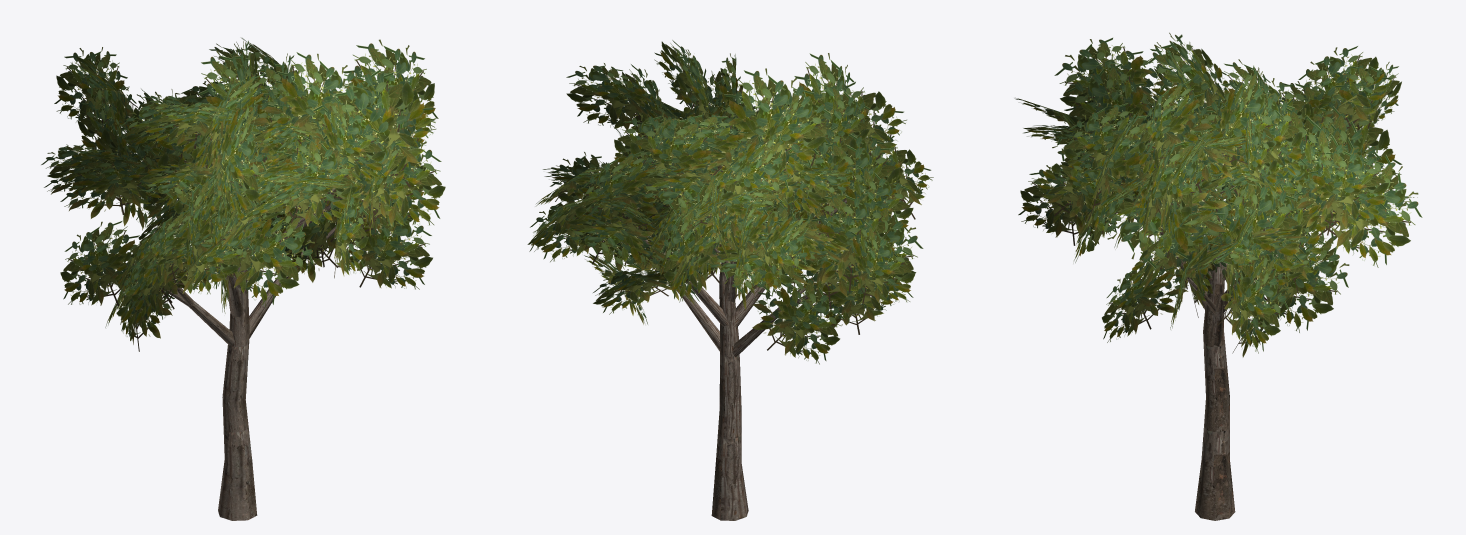
The model's file is arvore_copa.glb.
The picture shows the model from 3 angles, left to right: view 1: azimuth 30°, elevation 25°; view 2: azimuth 150°, elevation 25°; view 3: azimuth 270°, elevation 25°; orthographic projection. The views are drawn at different scales.
Parts seen in each view (by area): view 1: Folhas, Tronco; view 2: Folhas, Tronco; view 3: Folhas, Tronco.
Boxes of the visible parts, x1,y1,x2,y2 form: Folhas: (41, 37, 445, 351); Tronco: (156, 188, 336, 520); Folhas: (527, 40, 933, 364); Tronco: (637, 199, 846, 520); Folhas: (1014, 32, 1422, 357); Tronco: (1133, 193, 1240, 520).
Size of the model in its own units: 6.37 by 7.12 by 6.17.
Materials: 2 (2 with a texture image).
